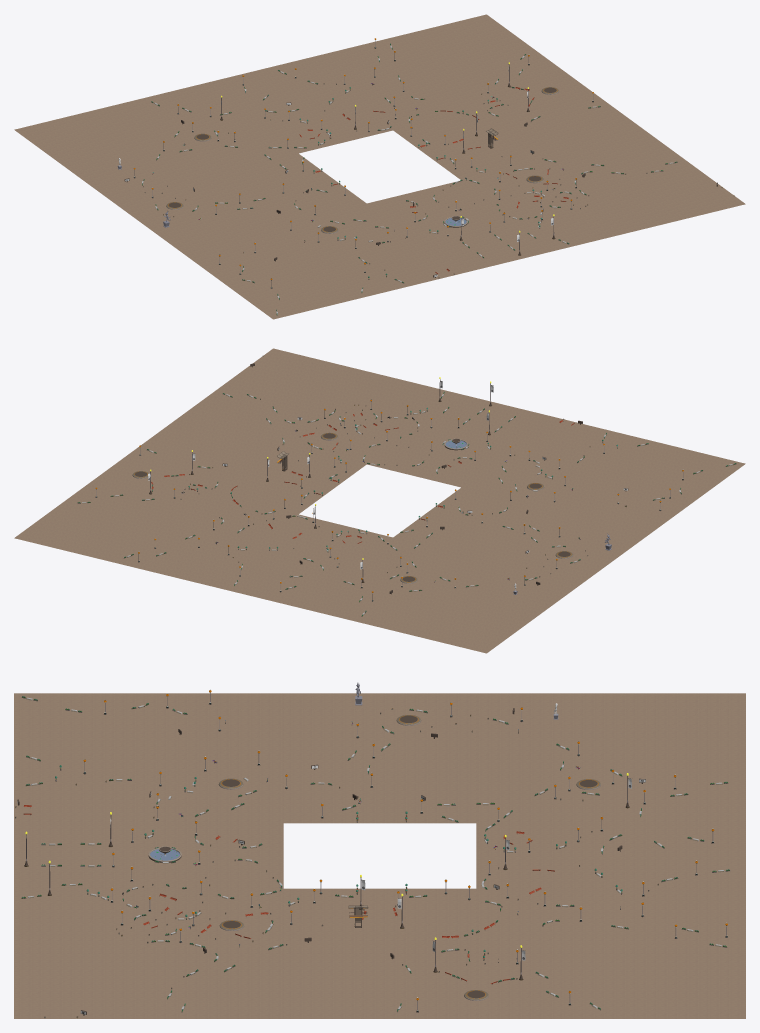
The model's file is street_cutoutVersion.glb.
3 renders of one model, top to bottom at view 1: azimuth 30°, elevation 25°; view 2: azimuth 150°, elevation 25°; view 3: azimuth 270°, elevation 25°, orthographic. The views are drawn at different scales.
Parts seen in each view (by area): view 1: Ground; view 2: Ground; view 3: Ground.
Boxes of the visible parts, x1,y1,x2,y2 form: Ground: (14,14,745,319); Ground: (14,348,745,653); Ground: (14,693,745,1018).
Size of what is drawn, in the model's own units: 320 by 16.16 by 304.
Materials: 8 (8 with a texture image).
